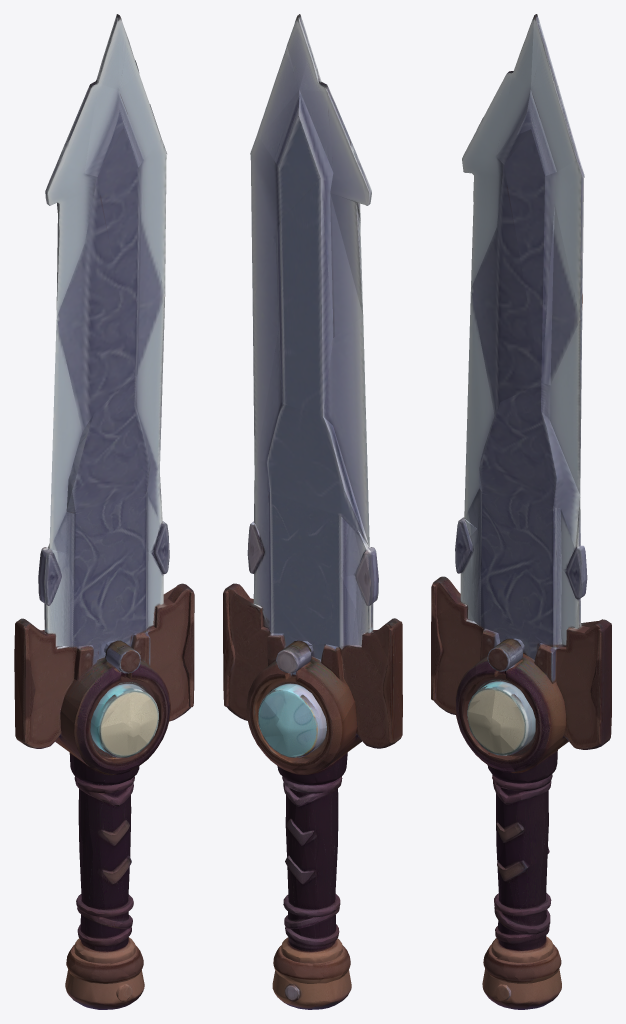
File: hw-blade.glb
3 renders of one model, left to right at view 1: azimuth 30°, elevation 25°; view 2: azimuth 150°, elevation 25°; view 3: azimuth 330°, elevation 25°, orthographic.
Bounding box in the file's own units: 0.3486 × 1.9 × 0.2006.
Materials: 1 (1 with a texture image).
